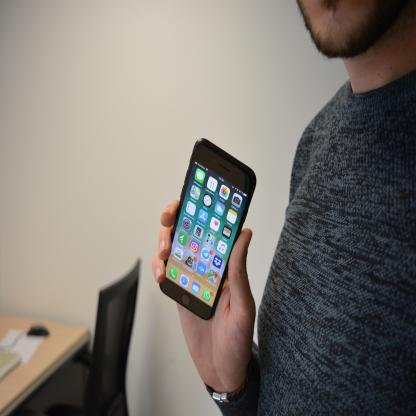smartphone: (158, 137, 257, 321)
